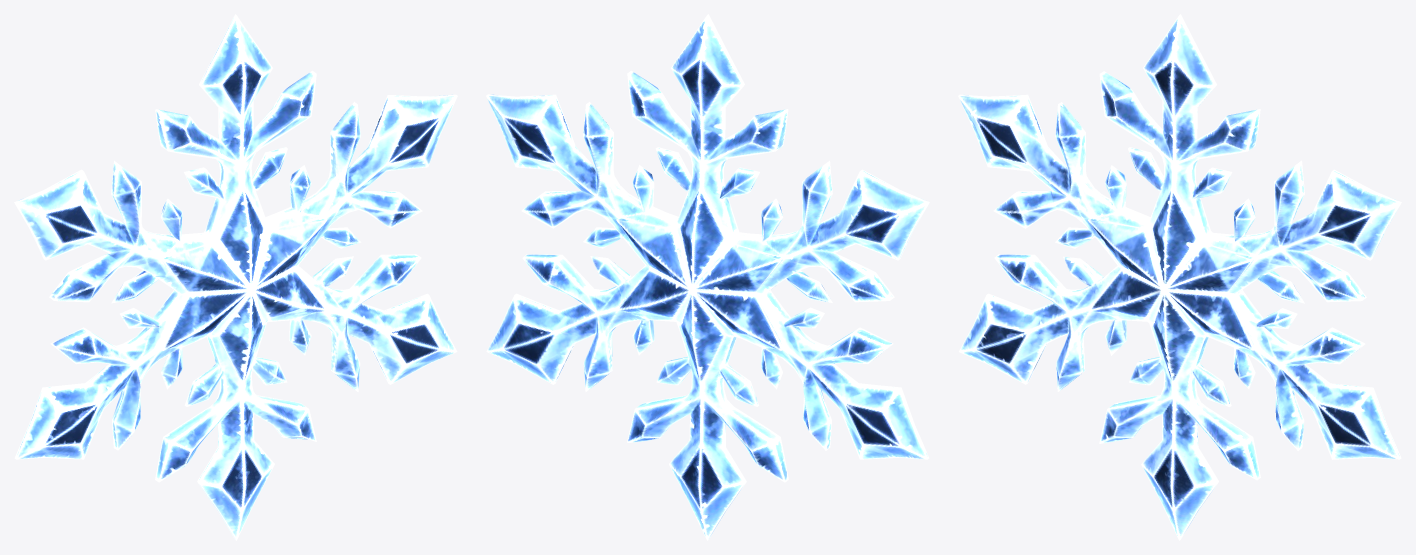
The model's file is kw_flake.glb.
3 renders of one model, left to right at view 1: azimuth 30°, elevation 25°; view 2: azimuth 150°, elevation 25°; view 3: azimuth 330°, elevation 25°, orthographic.
Visible parts, largest first — view 1: frame; view 2: frame; view 3: frame.
Boxes of the visible parts, x1,y1,x2,y2 form: frame: (14,14,457,540); frame: (486,14,929,540); frame: (958,14,1401,540).
Size of the model in its own units: 1.41 by 1.6 by 0.182.
Materials: 1 (1 with a texture image).
